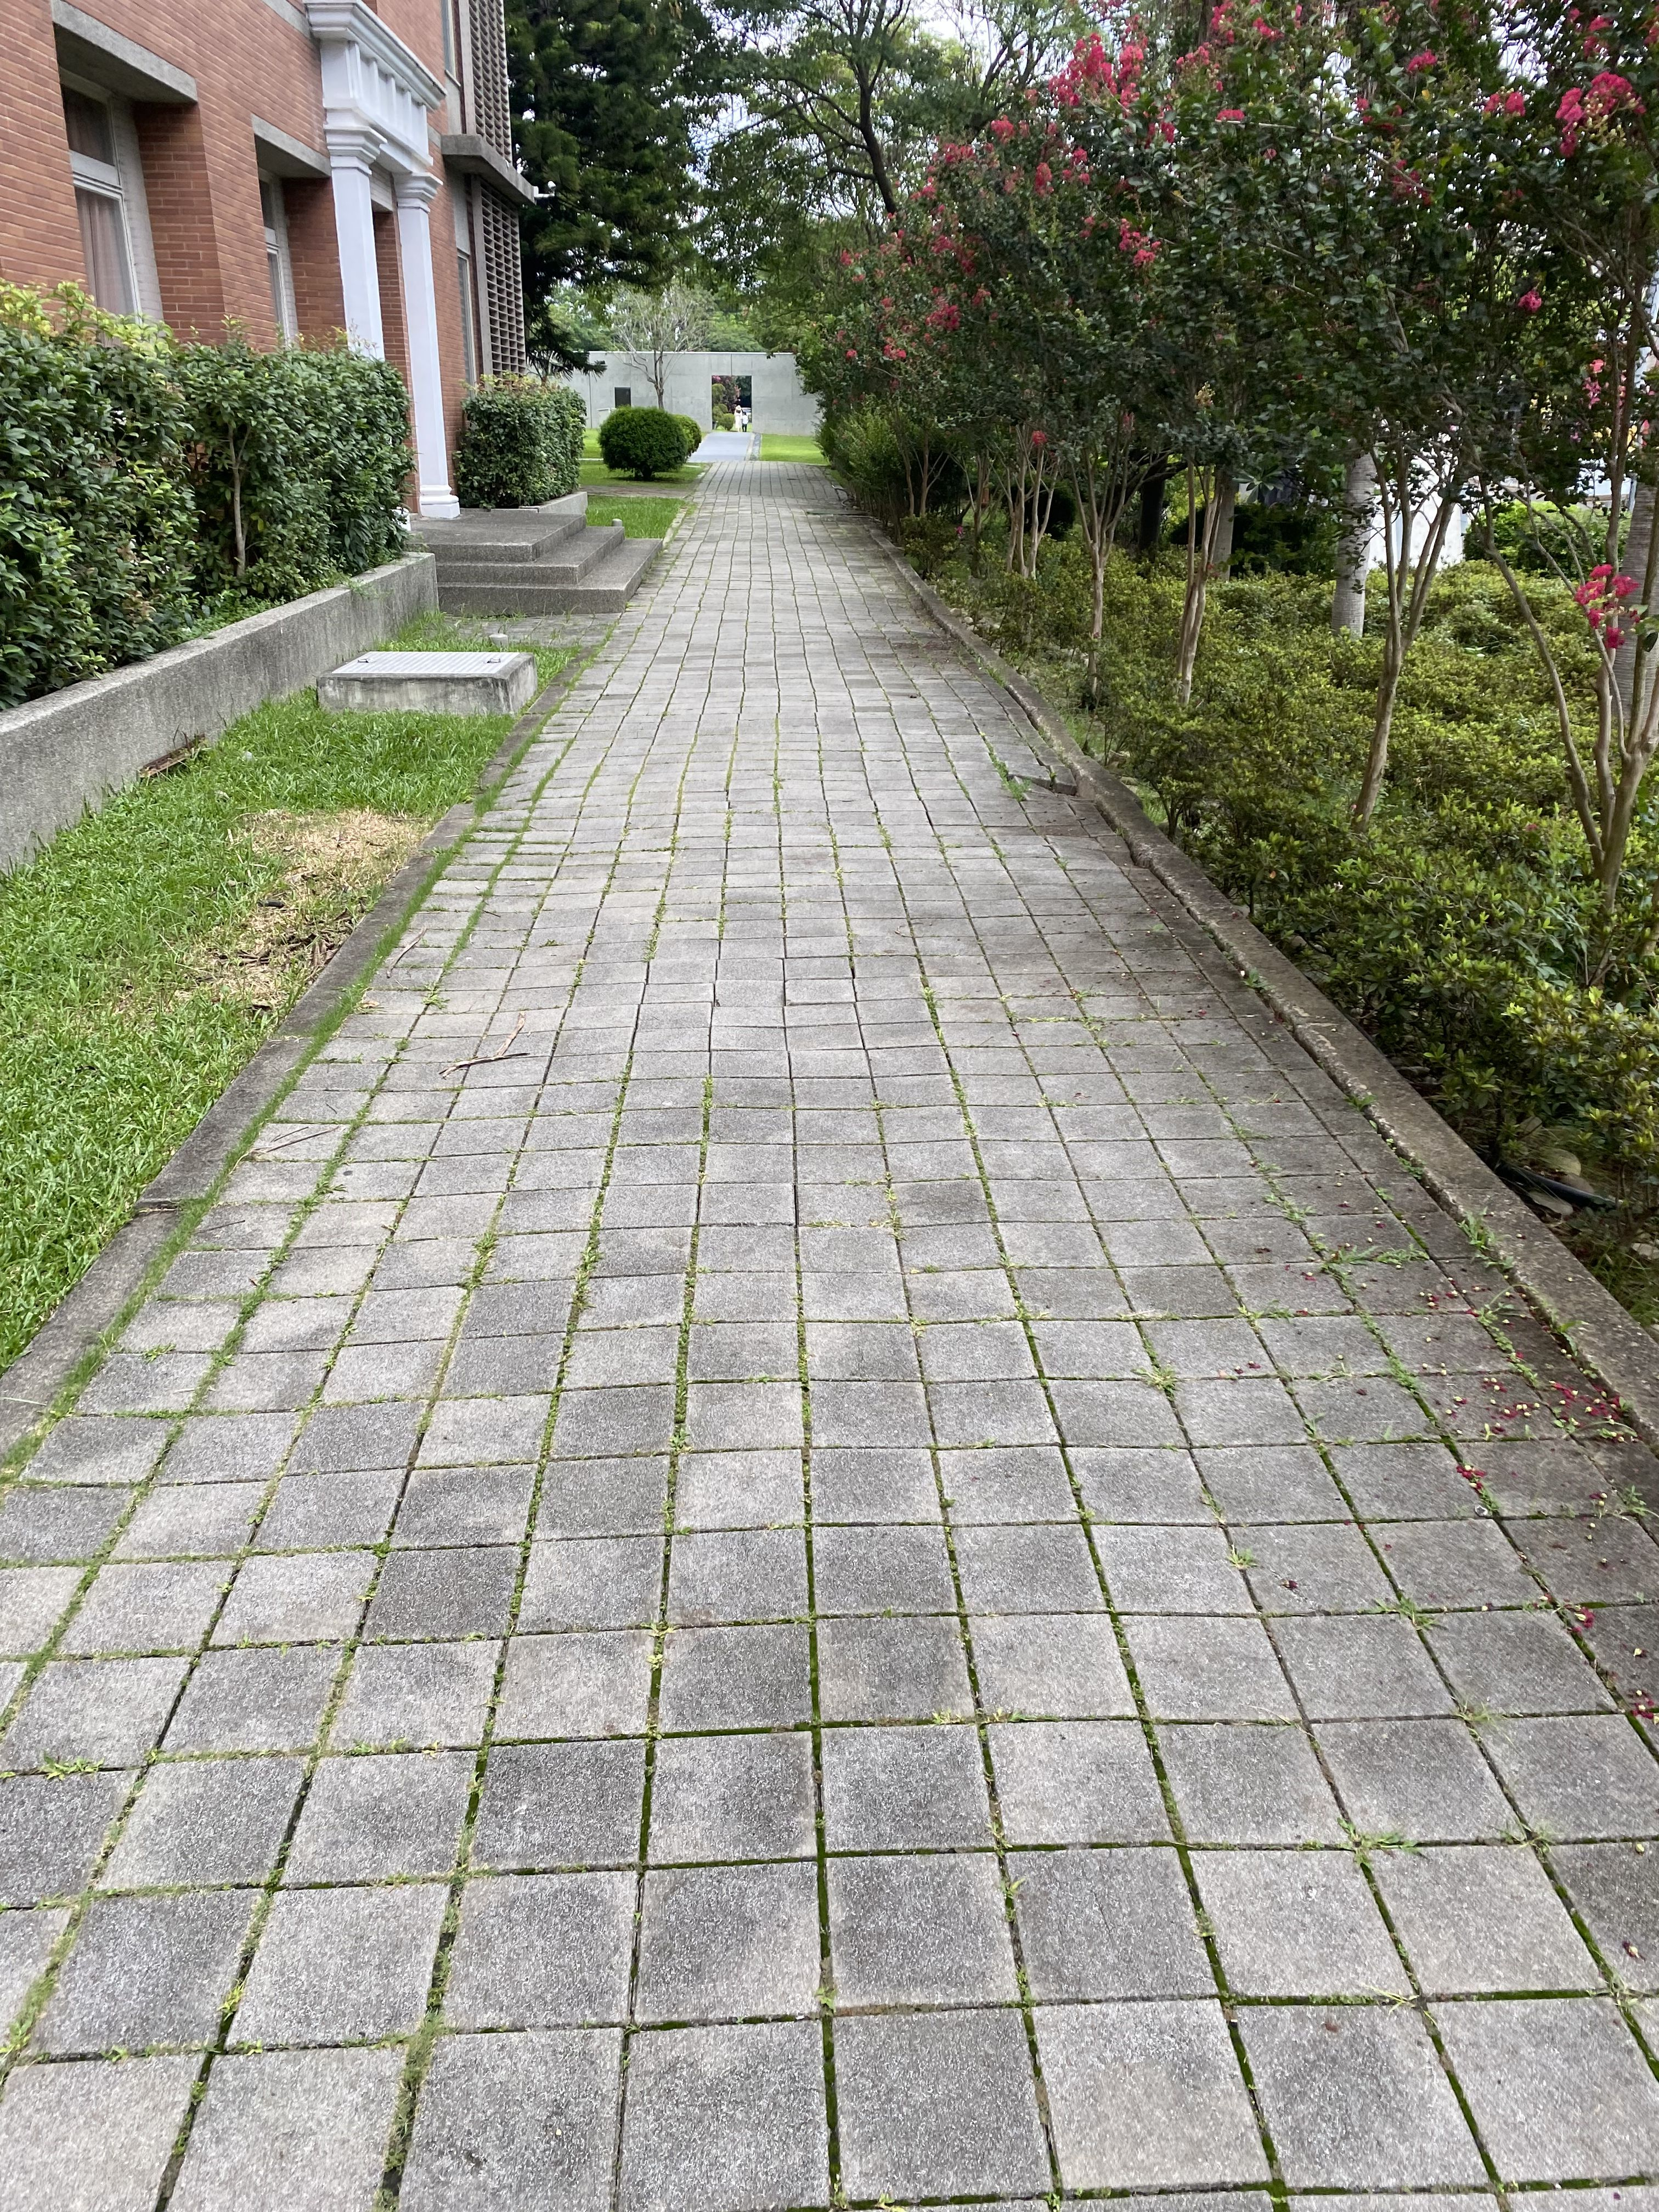0: (17, 629, 633, 2210)
sidewalk: (615, 430, 1656, 2203)
